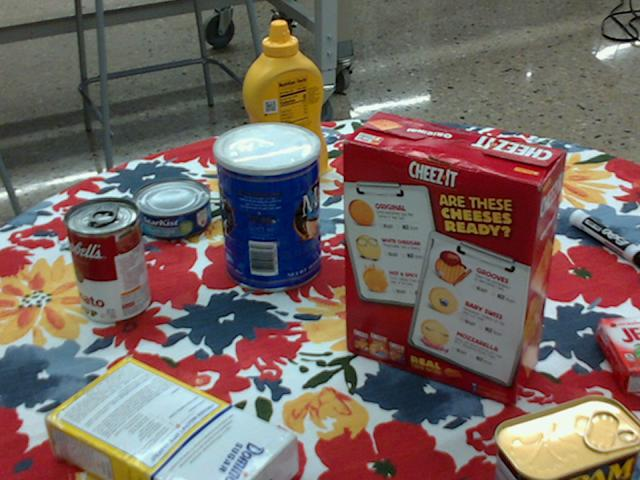cracker_box: (342, 114, 565, 409)
gelatin_box: (594, 318, 639, 394)
large_marker: (569, 211, 639, 269)
master_chef_can: (214, 122, 321, 293)
mug: (401, 139, 482, 223)
mustard_bottle: (244, 23, 328, 191)
potted_meat_can: (493, 394, 639, 479)
sugar_box: (43, 357, 297, 479)
tomato_soup_can: (65, 196, 149, 322)
tuna_fish_can: (134, 178, 213, 239)
